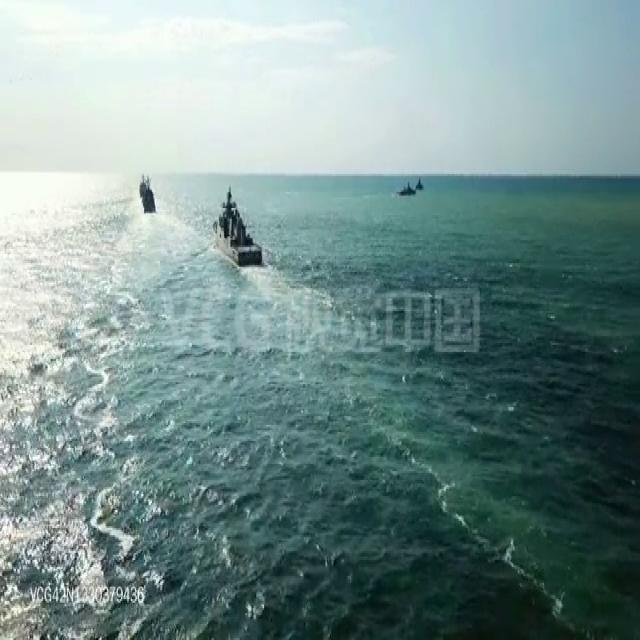navalvessels: (212, 186, 264, 264), (141, 180, 157, 218), (398, 178, 417, 196), (138, 171, 148, 199), (414, 176, 424, 195)
